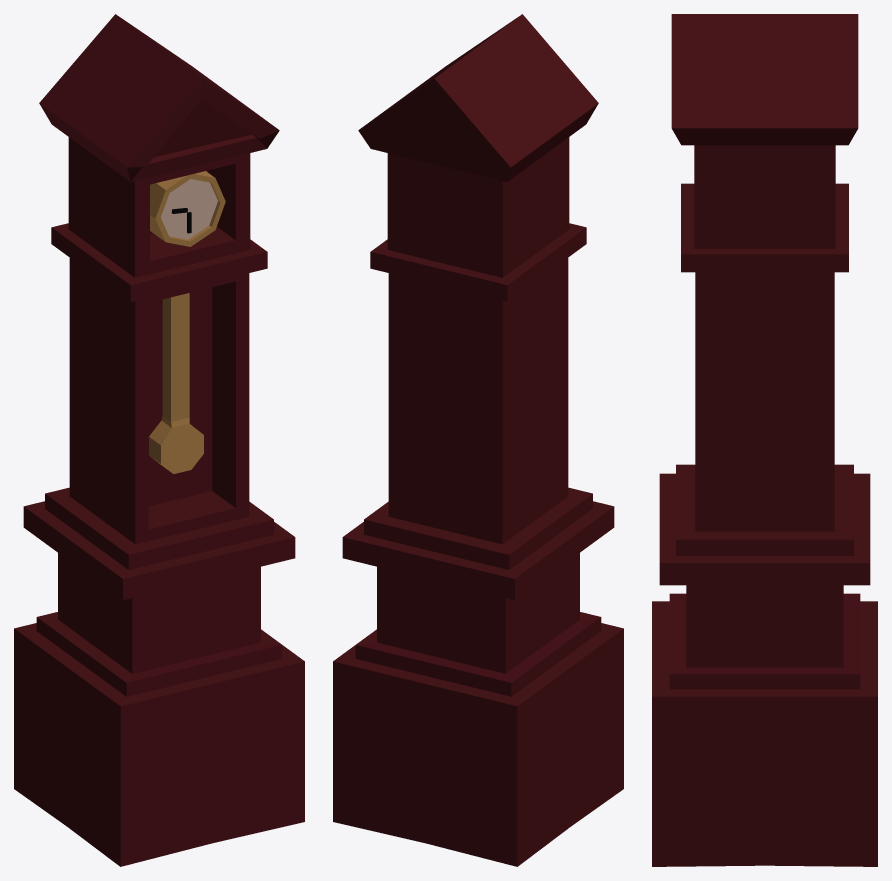
Rendered from GrandFather_Clock.fbx.
3 views of the same model, side by side, from view 1: azimuth 30°, elevation 25°; view 2: azimuth 150°, elevation 25°; view 3: azimuth 270°, elevation 25° (orthographic). The views are drawn at different scales.
Parts seen in each view (by area): view 1: Grandfather Clock, Pendulum, Clock Face; view 2: Grandfather Clock; view 3: Grandfather Clock.
Boxes of the visible parts, x1,y1,x2,y2 form: Grandfather Clock: [14, 14, 304, 866]; Pendulum: [149, 293, 203, 473]; Clock Face: [150, 171, 225, 246]; Grandfather Clock: [333, 14, 623, 866]; Grandfather Clock: [652, 14, 877, 866].
Size of the model in its own units: 38.64 by 152 by 38.64.
